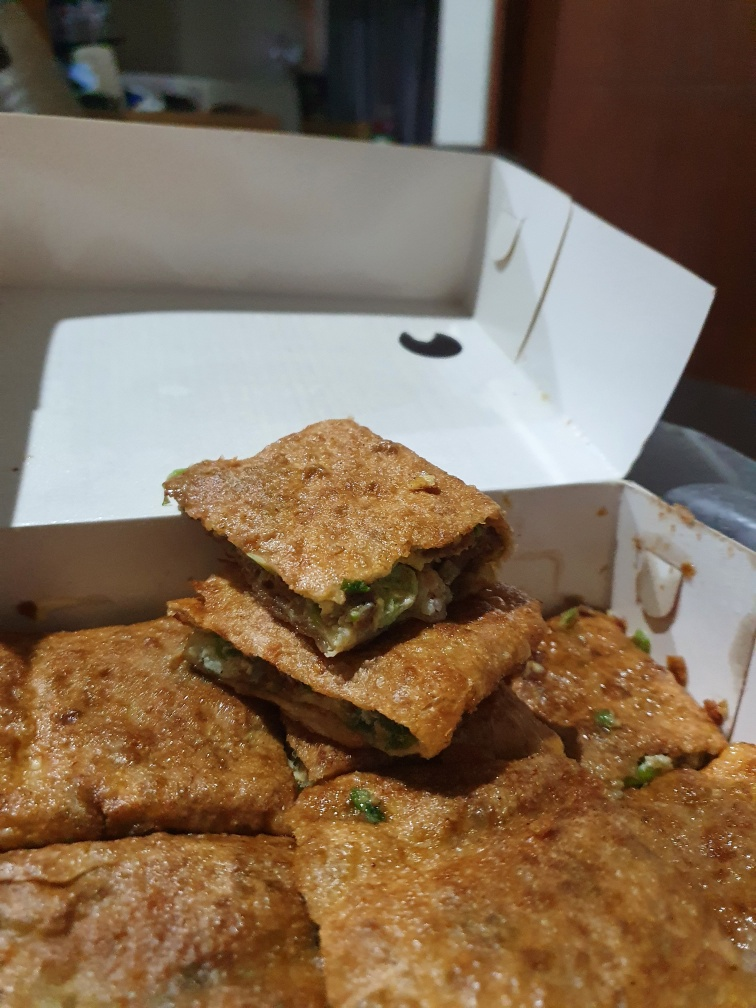martabak telor: (160, 419, 516, 622), (301, 802, 633, 1008), (170, 560, 550, 738), (1, 616, 294, 828), (8, 838, 319, 1008)
